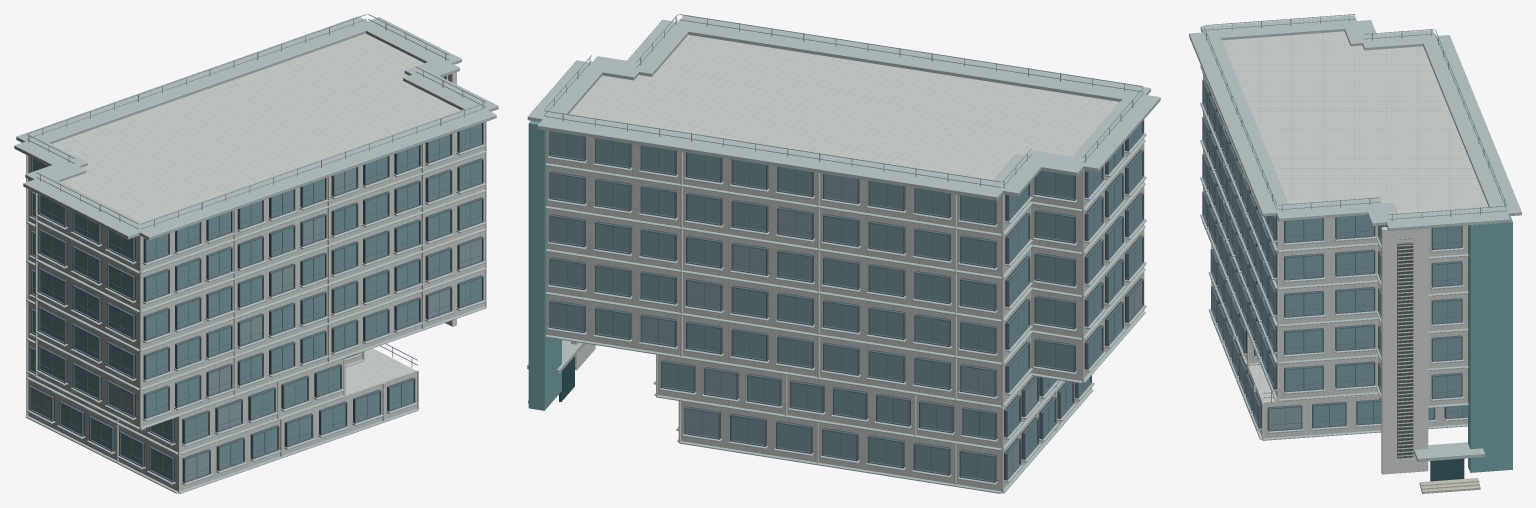
File: design.glb
3 renders of one model, left to right at view 1: azimuth 30°, elevation 25°; view 2: azimuth 150°, elevation 25°; view 3: azimuth 270°, elevation 25°, orthographic. The views are drawn at different scales.
Visible parts, largest first — view 1: design_body_d9dfdd, design_stone_bac9cb, design_glass_7da2aa, design, design_glass_90a8b0, design_stone_d9dfdd, design_frames_9aa8a9, design_frames_a8b2b0; view 2: design_body_d9dfdd, design_glass_7da2aa, design_stone_bac9cb, design, design_glass_90a8b0, design_glass_7caaaf, design_stone_d9dfdd, design_frames_9aa8a9; view 3: design_body_d9dfdd, design_stone_bac9cb, design, design_glass_7da2aa, design_glass_7caaaf, design_stone_d9dfdd, design_stone_58676a, design_frames_9aa8a9, design_stone_a8b1a9, design_glass_90a8b0, design_stone_c9ccc0, design_glass_355b64 (+1 smaller).
Boxes of the visible parts, <box> form: design_body_d9dfdd: <box>28,33,484,491</box>; design_stone_bac9cb: <box>14,16,498,493</box>; design_glass_7da2aa: <box>30,76,481,479</box>; design: <box>28,76,483,483</box>; design_glass_90a8b0: <box>30,167,481,480</box>; design_stone_d9dfdd: <box>26,72,486,493</box>; design_frames_9aa8a9: <box>27,14,485,365</box>; design_frames_a8b2b0: <box>28,18,483,367</box>; design_body_d9dfdd: <box>546,35,1142,491</box>; design_glass_7da2aa: <box>551,122,1141,480</box>; design_stone_bac9cb: <box>527,15,1160,493</box>; design: <box>549,120,1144,482</box>; design_glass_90a8b0: <box>642,174,1141,475</box>; design_glass_7caaaf: <box>528,120,561,410</box>; design_stone_d9dfdd: <box>571,120,1144,493</box>; design_frames_9aa8a9: <box>544,14,1144,187</box>; design_body_d9dfdd: <box>1208,31,1488,438</box>; design_stone_bac9cb: <box>1189,15,1521,461</box>; design: <box>1202,79,1467,431</box>; design_glass_7da2aa: <box>1204,85,1467,426</box>; design_glass_7caaaf: <box>1468,216,1512,472</box>; design_stone_d9dfdd: <box>1203,75,1428,474</box>; design_stone_58676a: <box>1397,243,1413,458</box>; design_frames_9aa8a9: <box>1203,14,1507,398</box>; design_stone_a8b1a9: <box>1397,237,1413,456</box>; design_glass_90a8b0: <box>1212,167,1301,429</box>; design_stone_c9ccc0: <box>1419,478,1480,493</box>; design_glass_355b64: <box>1430,458,1464,481</box>.
Size of the model in its own units: 44.65 by 26.2 by 29.16.
Materials: 14 (1 with a texture image).
